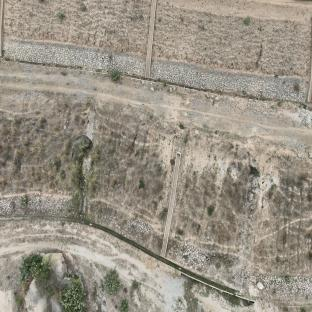rock_toe: (167, 237, 312, 298), (150, 60, 308, 102), (2, 41, 145, 77), (88, 198, 161, 253), (1, 192, 77, 216)
slope_drain: (75, 109, 97, 217), (161, 152, 181, 258), (145, 0, 156, 78)
toe_drain: (0, 214, 310, 308), (0, 56, 311, 111)
vegetation: (66, 137, 97, 195)
